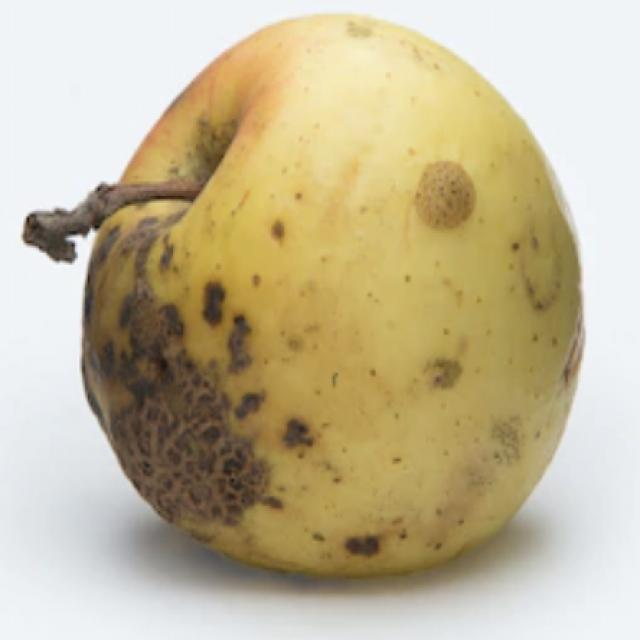rotten_apple: (24, 9, 584, 579)
